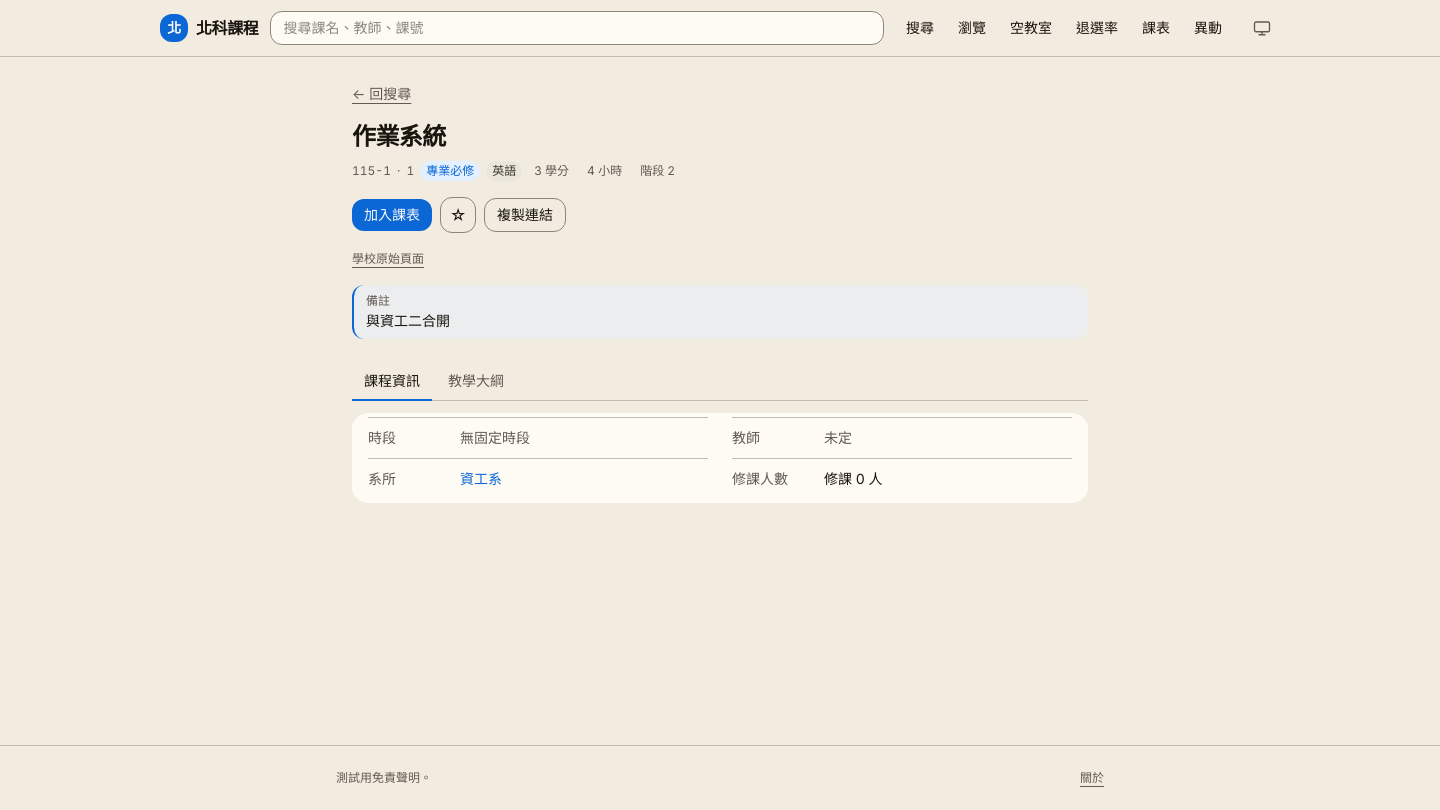
/course/$semester/$courseId › 切到教學大綱分頁再切回來
Click the tab "教學大綱". click: (476, 382)
box: [436,363,516,401]
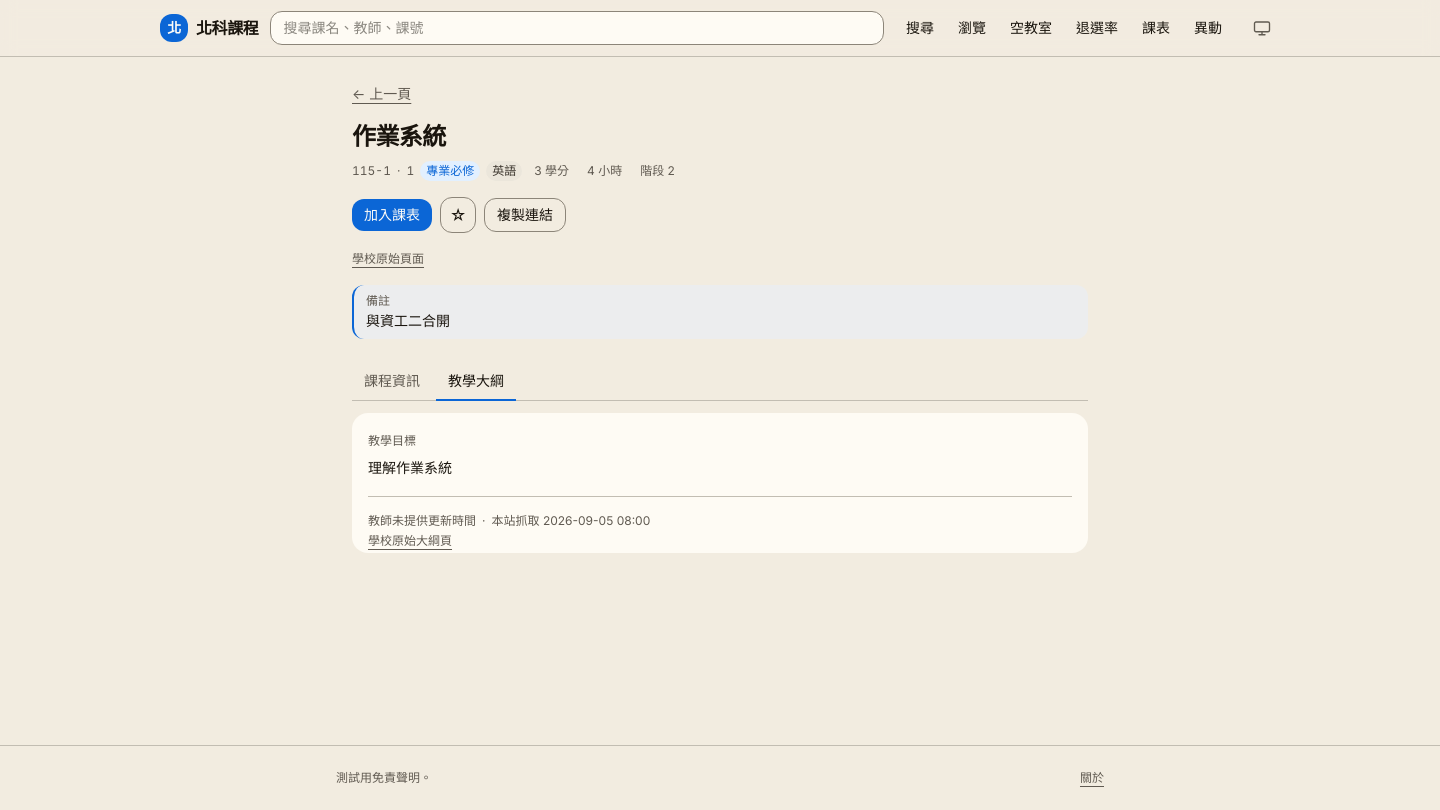
expect the text "理解作業系統" is shown: met, box [368,459,452,476]
Click the tab "課程資訊". click: (392, 382)
box: [352,363,432,401]
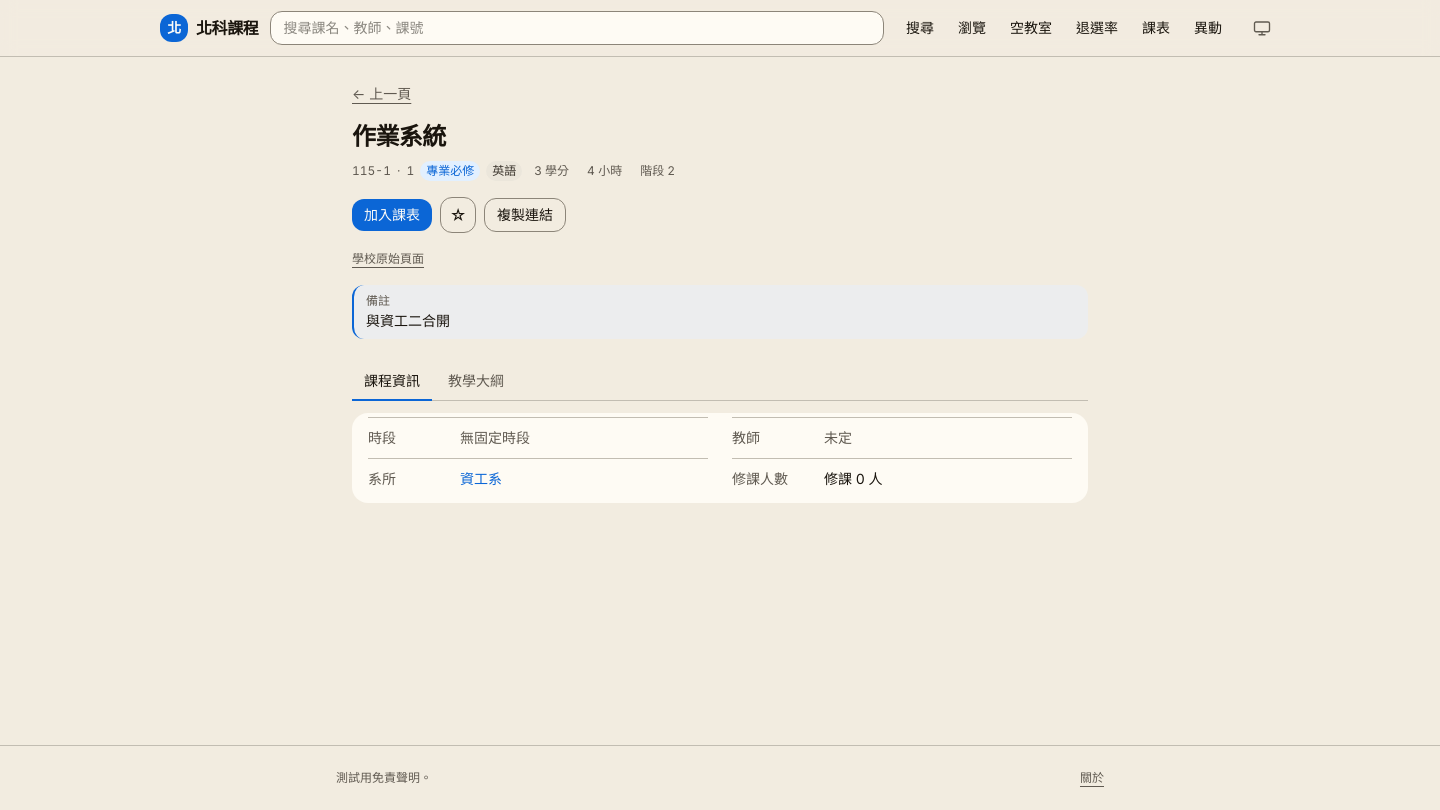
expect the text "時段" is shown: met, box [368,429,396,446]
